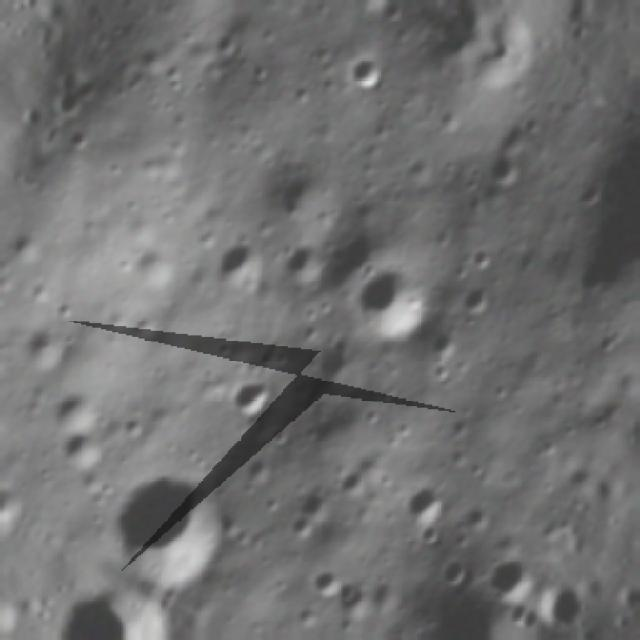crater: (92, 447, 260, 608), (338, 243, 449, 357), (381, 560, 519, 640), (203, 225, 283, 308), (306, 328, 382, 403), (218, 363, 290, 435), (270, 226, 342, 297), (477, 544, 545, 614), (392, 470, 460, 536), (14, 317, 78, 381), (46, 384, 109, 442), (58, 427, 117, 487), (338, 45, 396, 101), (470, 142, 528, 198), (306, 562, 356, 612), (450, 276, 501, 324), (437, 552, 483, 596), (338, 574, 382, 620), (424, 324, 468, 368)
